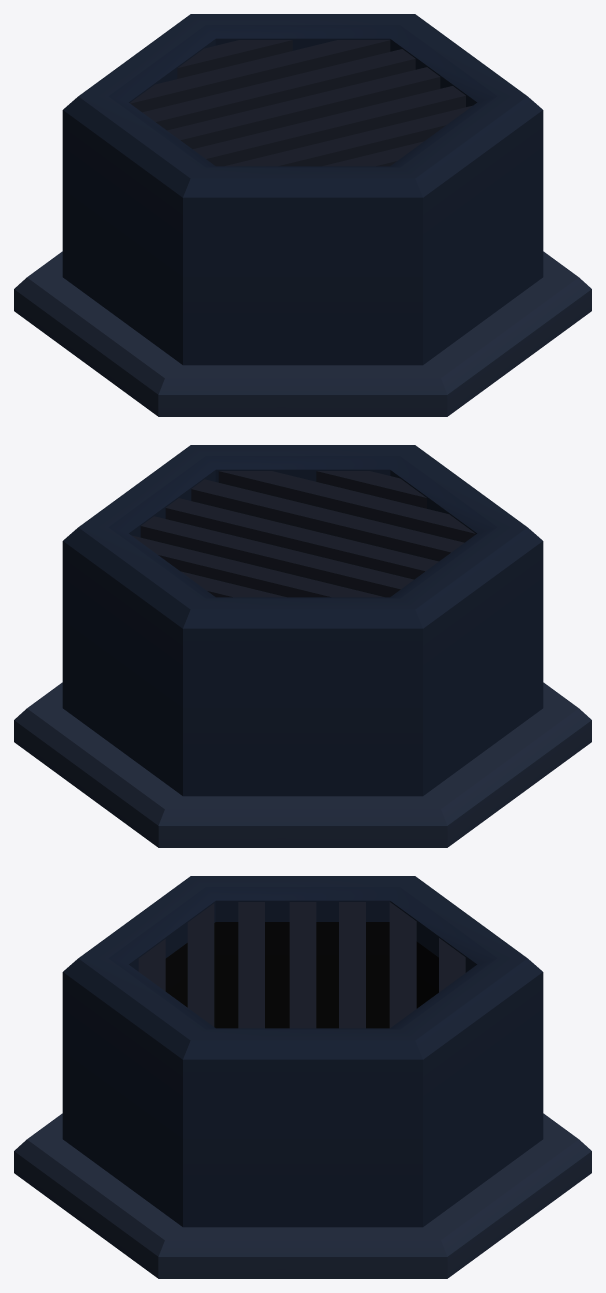
Rendered from Pillar 02.FBX.
3 renders of one model, top to bottom at view 1: azimuth 30°, elevation 25°; view 2: azimuth 150°, elevation 25°; view 3: azimuth 270°, elevation 25°, orthographic.
Visible parts, largest first — view 1: Pillar 02; view 2: Pillar 02; view 3: Pillar 02.
Boxes of the visible parts, x1,y1,x2,y2 form: Pillar 02: (14, 14, 591, 416); Pillar 02: (14, 445, 591, 847); Pillar 02: (14, 876, 591, 1278).
Bounding box in the file's own units: 285 × 135 × 329.
Materials: 1 (1 with a texture image).
